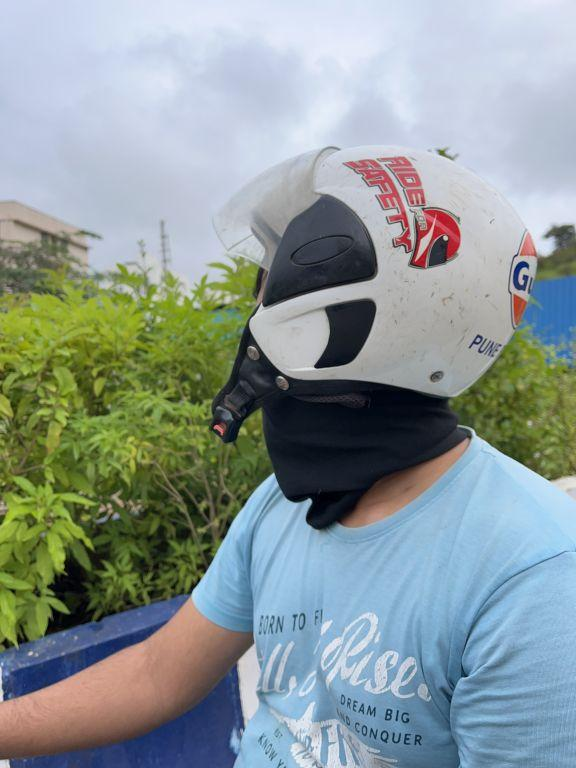helmet: (197, 127, 542, 461)
